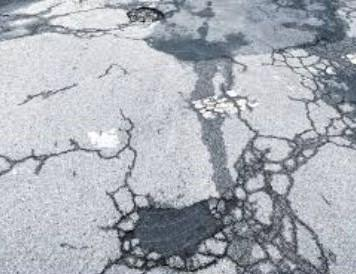alligator-crack: (243, 97, 356, 185), (104, 189, 220, 274), (217, 185, 324, 274), (269, 39, 356, 93)
crack: (0, 137, 127, 175), (223, 81, 257, 137), (114, 108, 139, 183), (25, 83, 80, 104), (95, 62, 130, 78)
pothole: (124, 4, 165, 24)
